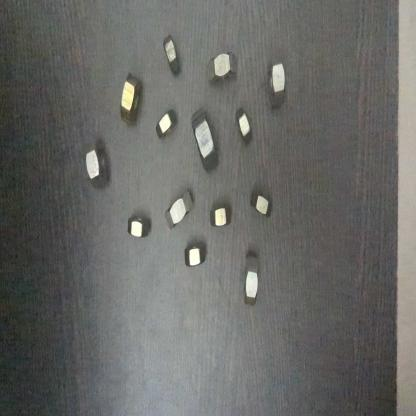NUTS: (189, 102, 222, 178), (161, 184, 197, 236), (118, 66, 145, 135), (76, 139, 108, 191), (206, 49, 239, 91), (263, 54, 288, 108), (159, 29, 185, 80), (123, 210, 156, 250), (243, 249, 264, 309), (204, 197, 233, 237), (230, 102, 254, 148), (155, 106, 179, 150), (247, 186, 274, 224)
